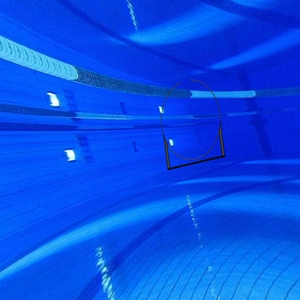circle: (159, 78, 227, 172)
